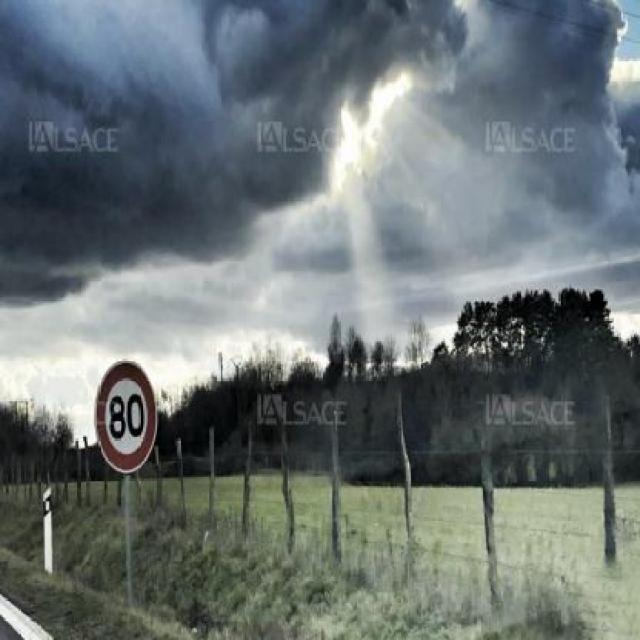traffic_sign: (95, 361, 158, 479)
